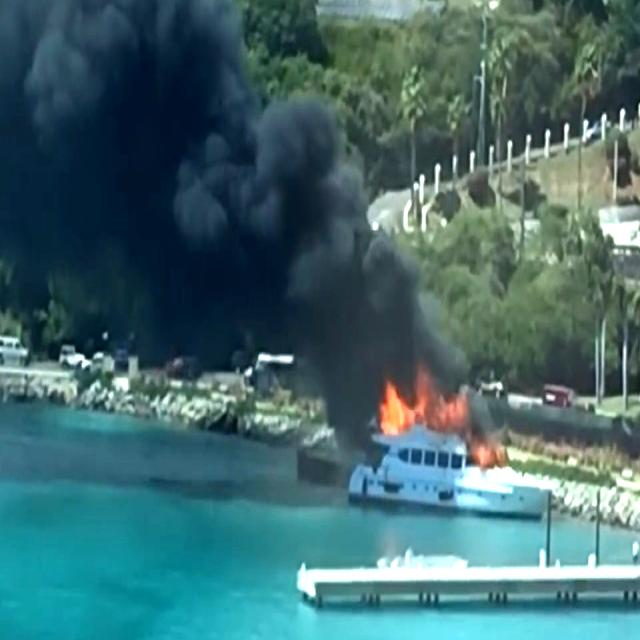fire: (367, 359, 464, 456)
smoke: (113, 92, 360, 346), (0, 0, 220, 216)
